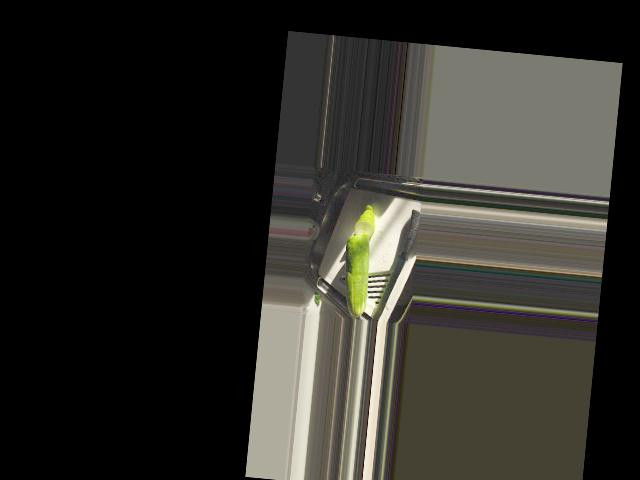cucumber: (340, 231, 373, 318)
